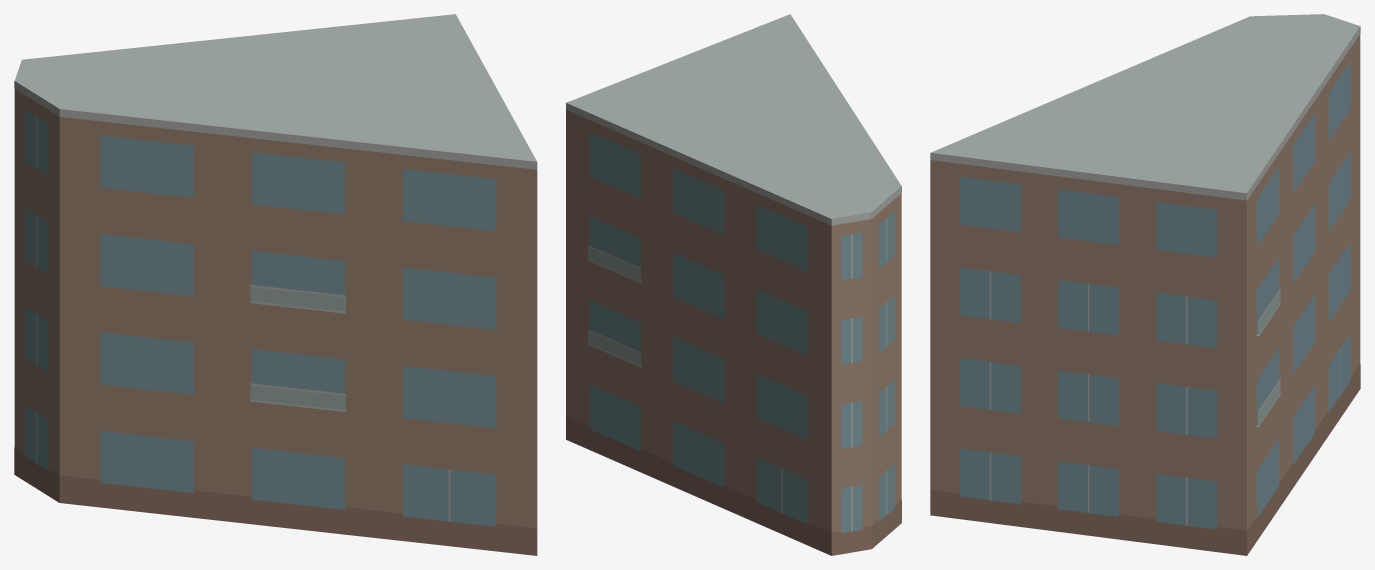
File: residential-8664f0c7-6fff-4732-b1ce-af5a14a8fad4.glb
3 renders of one model, left to right at view 1: azimuth 30°, elevation 25°; view 2: azimuth 150°, elevation 25°; view 3: azimuth 270°, elevation 25°, orthographic. The views are drawn at different scales.
Parts seen in each view (by area): view 1: residential-8664f0c7-6fff-4732-b1ce-af5a14a8fad4.tmp; view 2: residential-8664f0c7-6fff-4732-b1ce-af5a14a8fad4.tmp; view 3: residential-8664f0c7-6fff-4732-b1ce-af5a14a8fad4.tmp.
Boxes of the visible parts, <box> form: residential-8664f0c7-6fff-4732-b1ce-af5a14a8fad4.tmp: <box>14,14,537,555</box>; residential-8664f0c7-6fff-4732-b1ce-af5a14a8fad4.tmp: <box>566,14,901,555</box>; residential-8664f0c7-6fff-4732-b1ce-af5a14a8fad4.tmp: <box>930,14,1360,555</box>.
Size of the model in its own units: 12.95 by 12.2 by 13.12.
